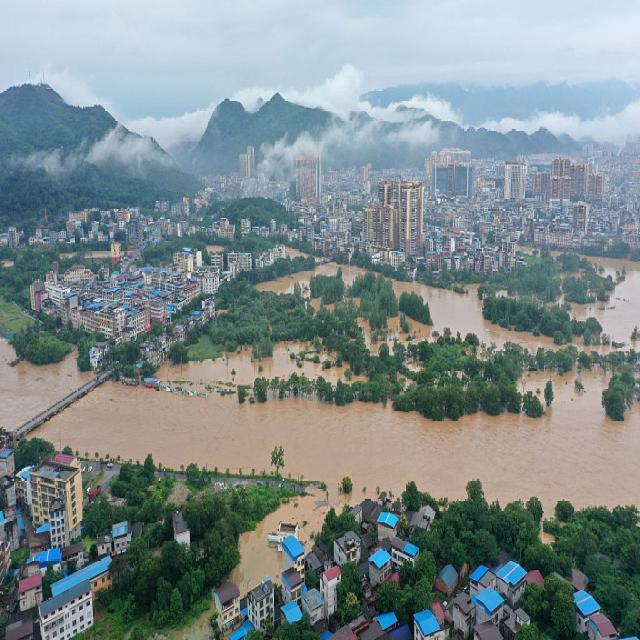flood: (33, 343, 640, 592), (395, 284, 553, 350), (0, 340, 90, 430), (573, 261, 640, 350), (259, 265, 338, 292), (169, 615, 208, 640), (342, 266, 365, 280)
house: (28, 278, 194, 336), (37, 568, 100, 640), (364, 181, 424, 252), (214, 574, 279, 638), (32, 459, 82, 535), (541, 160, 606, 204), (431, 231, 502, 271), (570, 585, 618, 638), (469, 586, 506, 638), (291, 157, 328, 208), (496, 558, 534, 601), (318, 562, 343, 620), (329, 528, 363, 568), (366, 547, 396, 587), (116, 211, 162, 236), (17, 569, 44, 610), (410, 607, 443, 640), (449, 593, 473, 638), (432, 560, 460, 594), (503, 161, 528, 199), (88, 559, 114, 595), (280, 568, 307, 602), (110, 518, 132, 556), (282, 534, 306, 568), (16, 464, 34, 506), (169, 511, 194, 541), (376, 508, 402, 536), (410, 503, 434, 532), (0, 448, 16, 477), (396, 541, 421, 559), (374, 612, 398, 630)
